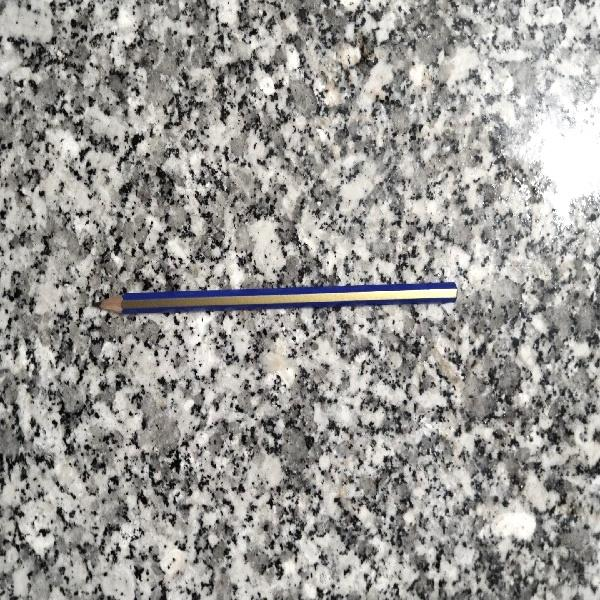pencil: (88, 277, 469, 324)
